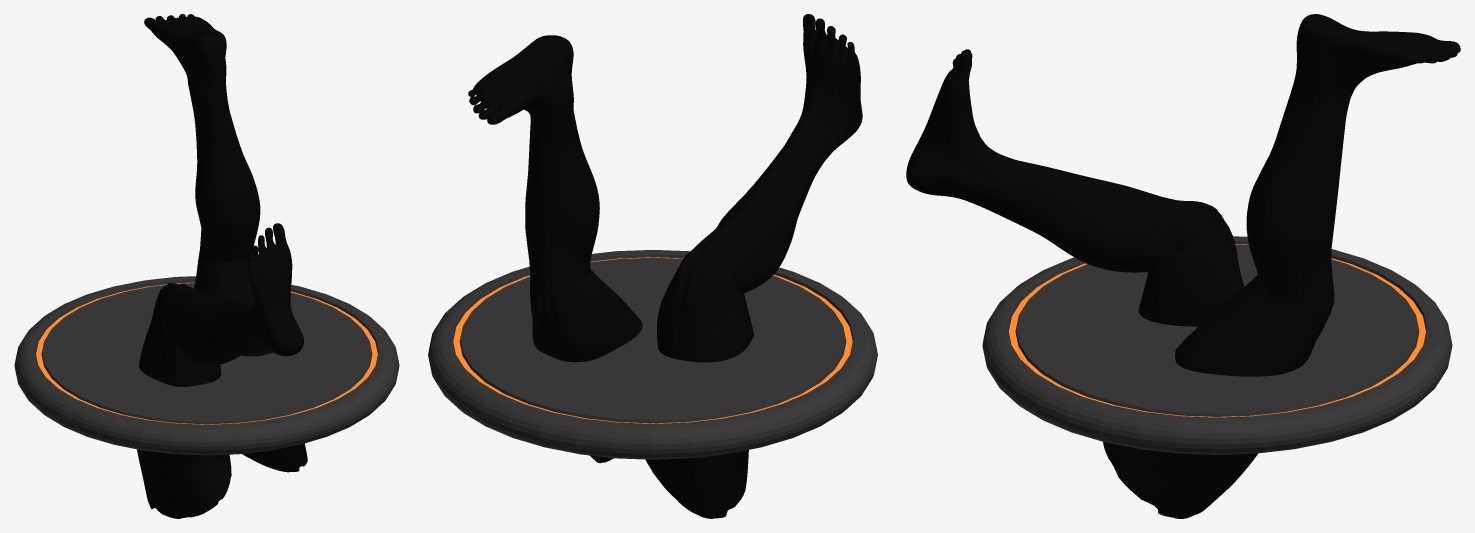
File: YSM_Project_INDV_ED_2.fbx
3 views of the same model, side by side, from view 1: azimuth 30°, elevation 25°; view 2: azimuth 150°, elevation 25°; view 3: azimuth 270°, elevation 25° (orthographic). The views are drawn at different scales.
Visible parts, largest first — view 1: Base, LEG1_1; view 2: Base, LEG1_1; view 3: LEG1_1, Base.
Part boxes in pixels (x1=…): Base: x1=14, y1=276, x2=399, y2=455; LEG1_1: x1=137, y1=14, x2=307, y2=518; Base: x1=428, y1=250, x2=877, y2=459; LEG1_1: x1=468, y1=14, x2=862, y2=518; LEG1_1: x1=906, y1=14, x2=1460, y2=518; Base: x1=982, y1=236, x2=1452, y2=454.
Size of the model in its own units: 416 by 497 by 491.
